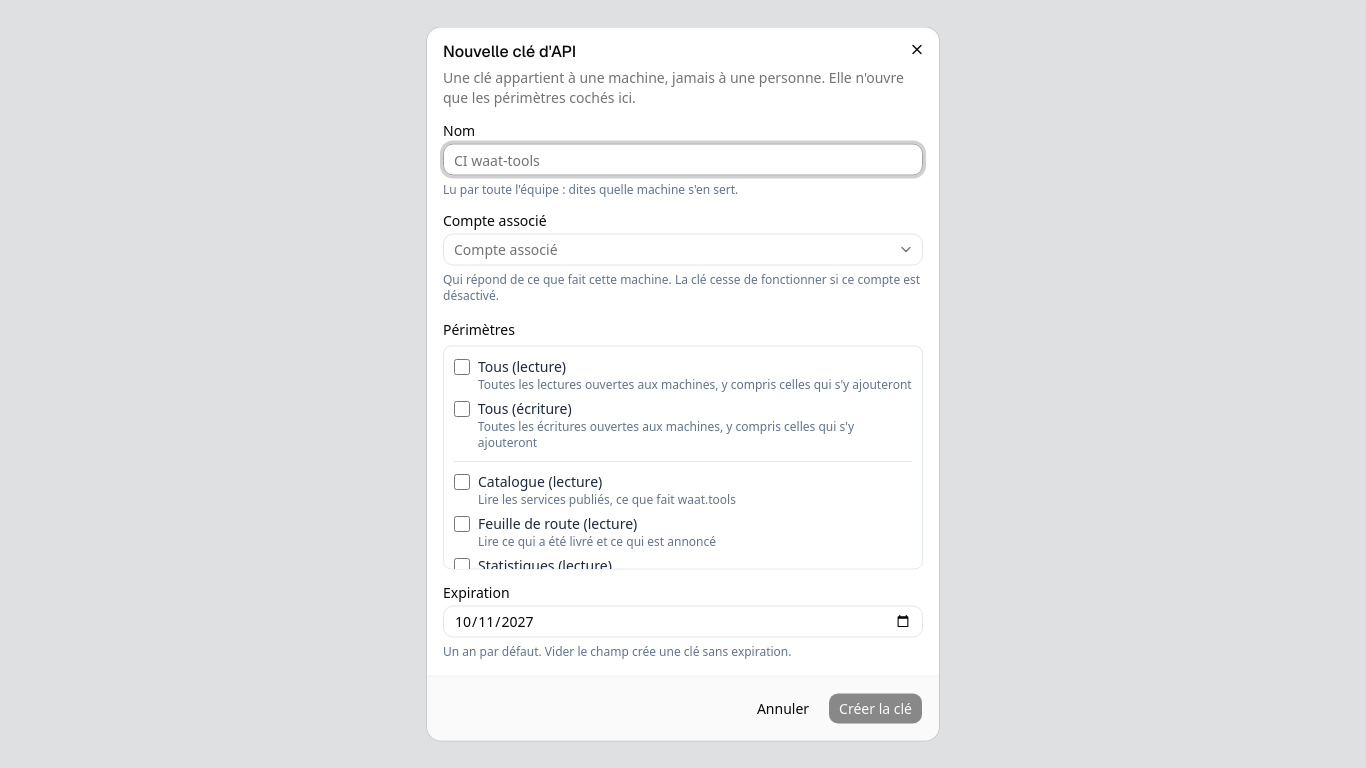
CreateApiKeyDialog › what a broad scope carries › ticks and locks every read under « Tous (lecture) »
The image size is (1366, 768).
Click the checkbox labelled "Tous (lecture)" at (462, 366), box left=454, top=358, right=470, bottom=374
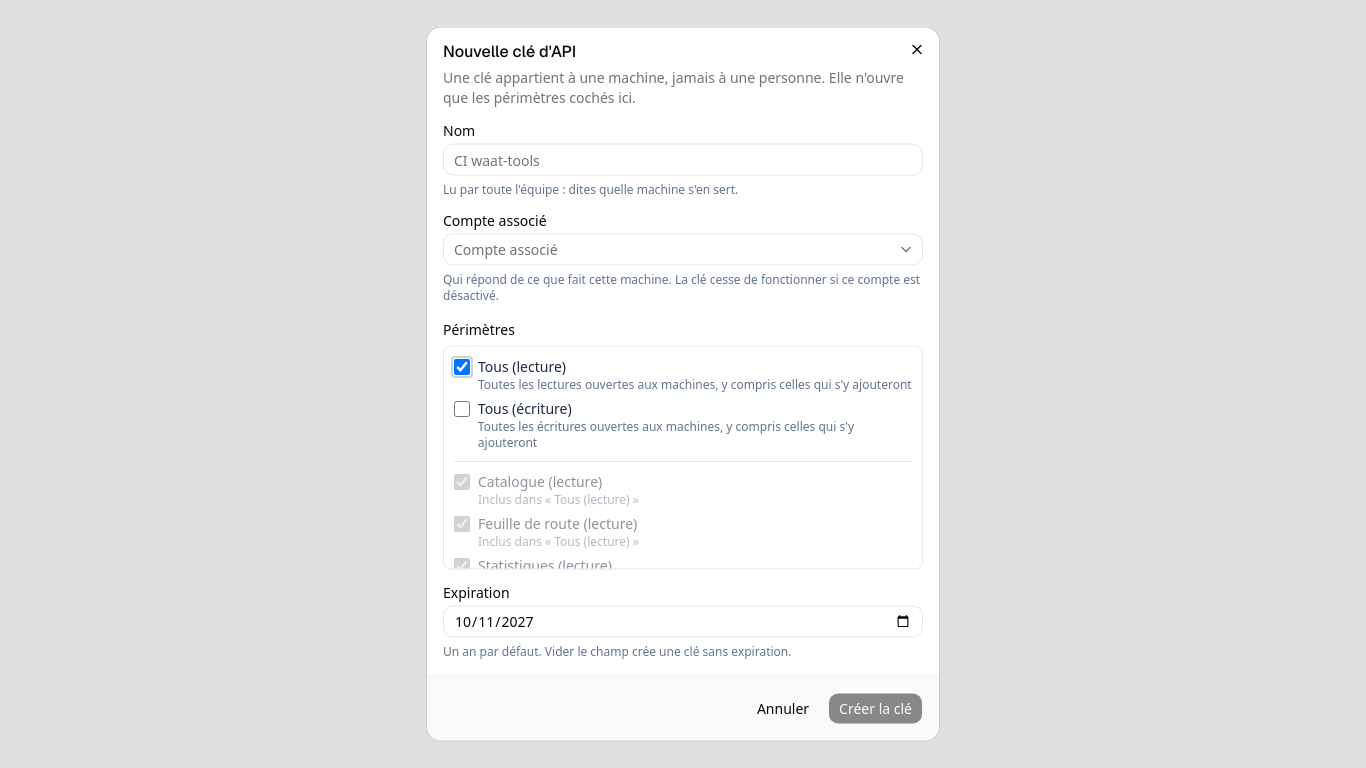
Result: the checkbox labelled "Catalogue (lecture) Inclus dans « Tous (lecture) »" is checked at left=454, top=474, right=470, bottom=490
Result: the checkbox labelled "Catalogue (lecture) Inclus dans « Tous (lecture) »" is disabled at left=454, top=474, right=470, bottom=490
